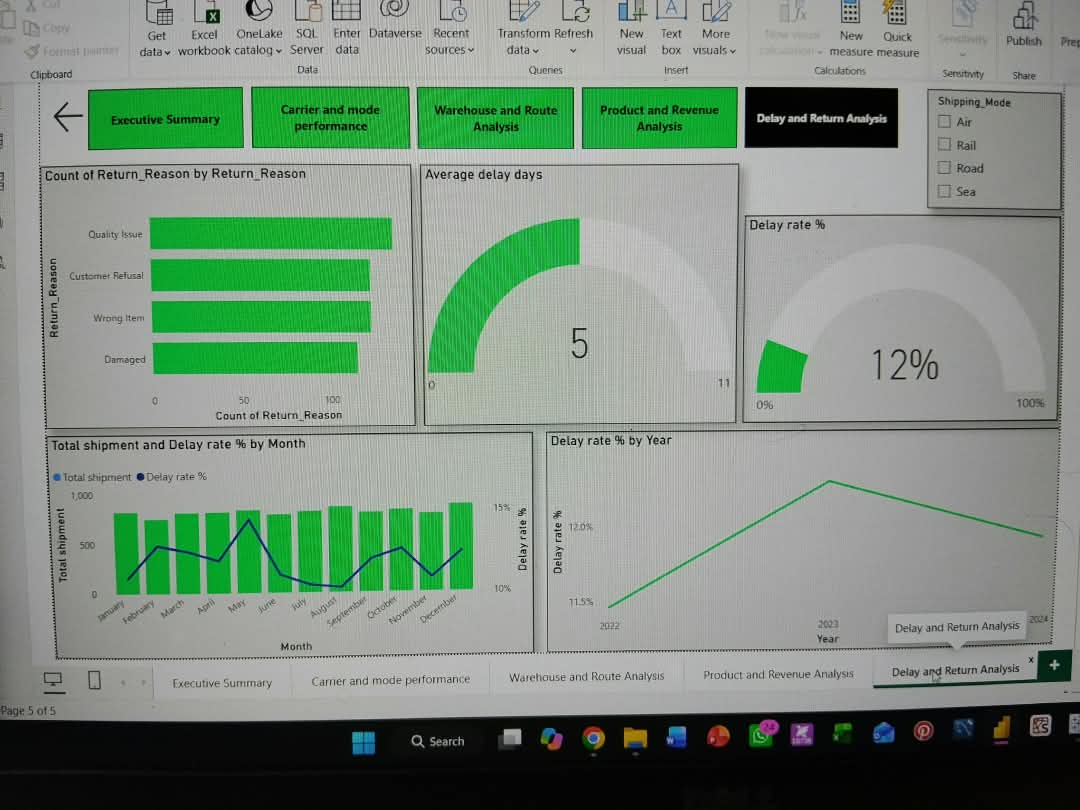

What the dashboard file says about the page in this screenshot:
{"tool":"powerbi","page":{"name":"Delay and Return Analysis","canvas":[1280,720],"ordinal":4},"visuals":[{"type":"barChart","fields":{"Category":["Raw_Data.Return_Reason"],"Y":["CountNonNull(Raw_Data.Return_Reason)"]},"box":[0,105.2,456.1,322.8],"z":0},{"type":"lineStackedColumnComboChart","fields":{"Y":["Raw_Data.Total shipment"],"Y2":["Raw_Data.Delay rate %"],"Category":["Raw_Data.Order_Date.Variation.Date Hierarchy.Month"]},"box":[0,437.8,604.1,282.5],"z":1000},{"type":"lineChart","fields":{"Category":["Raw_Data.Order_Date.Variation.Date Hierarchy.Year"],"Y":["Raw_Data.Delay rate %"]},"box":[621.2,437.8,659.1,282.5],"z":2000},{"type":"gauge","fields":{"Y":["Raw_Data.Delay rate %"]},"box":[870.7,168.8,406,259.2],"z":3000},{"type":"gauge","fields":{"Y":["Raw_Data.Average delay days"]},"box":[467.1,105.2,395,322.8],"z":4000},{"type":"slicer","fields":{"Values":["Raw_Data.Shipping_Mode"]},"box":[1099.3,12.2,177.3,148],"z":5000},{"type":"pageNavigator","box":[61.1,12.2,1000.3,74.6],"z":6000},{"type":"actionButton","box":[12.2,12.2,48.9,64.8],"z":7000}]}

Visuals, with their boxes in screenshot pixels (x1, y1, x2, y2):
barChart - Raw_Data.Return_Reason x CountNonNull(Raw_Data.Return_Reason): [left=39, top=160, right=405, bottom=419]
lineStackedColumnComboChart - Raw_Data.Total shipment x Raw_Data.Delay rate %: [left=39, top=427, right=524, bottom=654]
lineChart - Raw_Data.Order_Date.Variation.Date Hierarchy.Year x Raw_Data.Delay rate %: [left=538, top=427, right=1067, bottom=654]
gauge - Raw_Data.Delay rate %: [left=738, top=211, right=1064, bottom=419]
gauge - Raw_Data.Average delay days: [left=414, top=160, right=731, bottom=419]
slicer - Raw_Data.Shipping_Mode: [left=922, top=86, right=1064, bottom=205]
pageNavigator: [left=88, top=86, right=891, bottom=146]
actionButton: [left=49, top=86, right=88, bottom=138]
